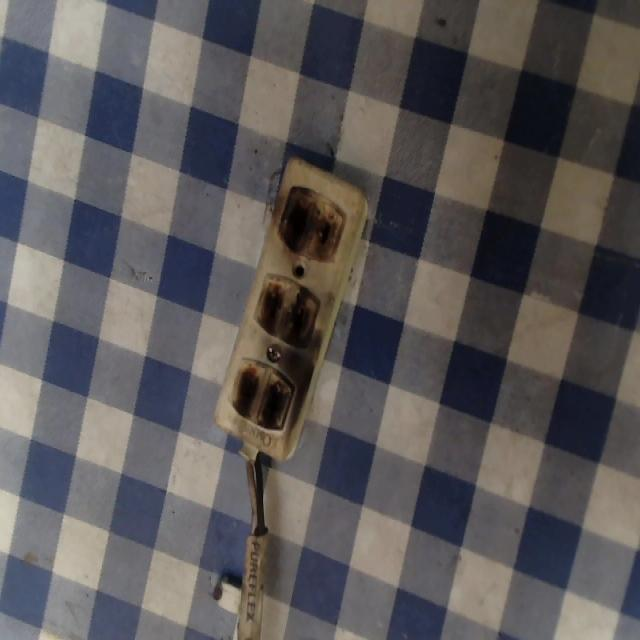-: (271, 180, 348, 261), (254, 262, 320, 350), (228, 356, 292, 427)
